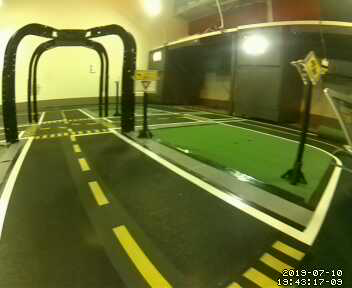Turn Yield: (134, 70, 158, 93)
